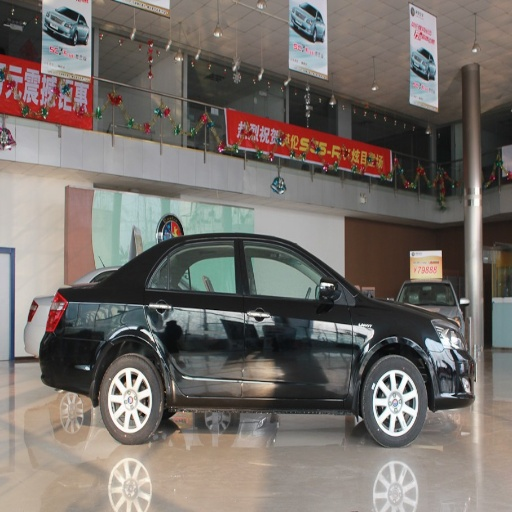back_right_door: (145, 235, 244, 394)
front_right_door: (241, 237, 352, 394)
